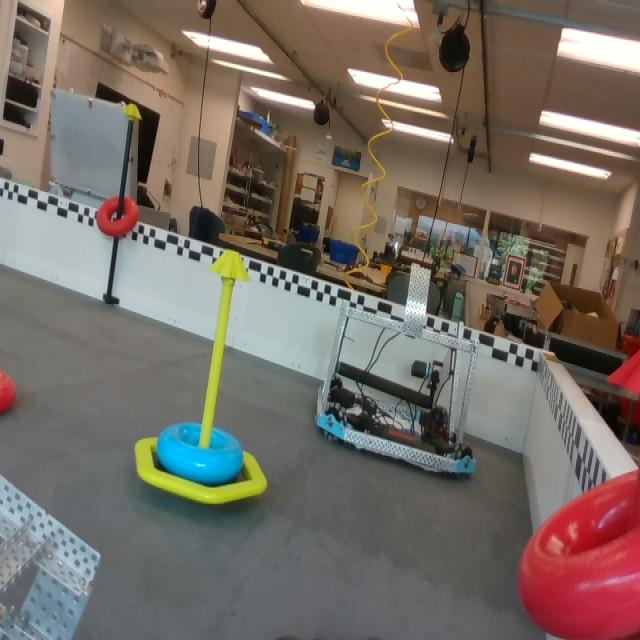Blue-Ring: (158, 423, 243, 476)
Mobile-Goal: (134, 249, 267, 506)
Red-Ring: (516, 472, 639, 639), (96, 197, 138, 237), (0, 369, 16, 417)
Yellow-Stake-Head: (210, 250, 251, 283), (122, 104, 142, 120)
zred-Stake-Head: (608, 347, 640, 394)
